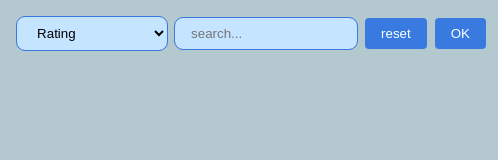
Test: Search Component › resets the state when reset button is clicked
Type "pg-13" into the field with placeholder "search...".
click(266, 34); type("pg-13")  # box [175,18,357,49]
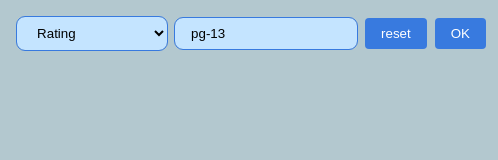
Click the button "reset".
click(396, 34)  # box [365,18,427,49]
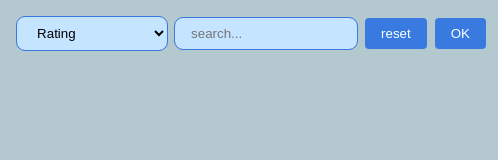
expect the dropdown showing "Rating" shows "Rating": met, box [17,17,167,50]
expect the field with placeholder "search..." is empty: met, box [175,18,357,49]
